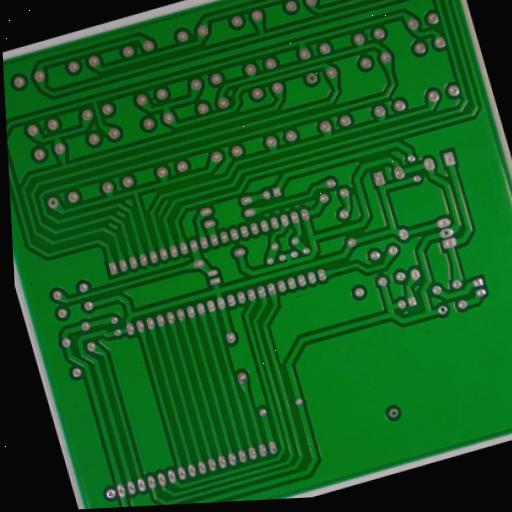missing_hole: (302, 69, 319, 87), (45, 194, 62, 211), (386, 406, 402, 420), (436, 303, 451, 316), (440, 227, 454, 239)
